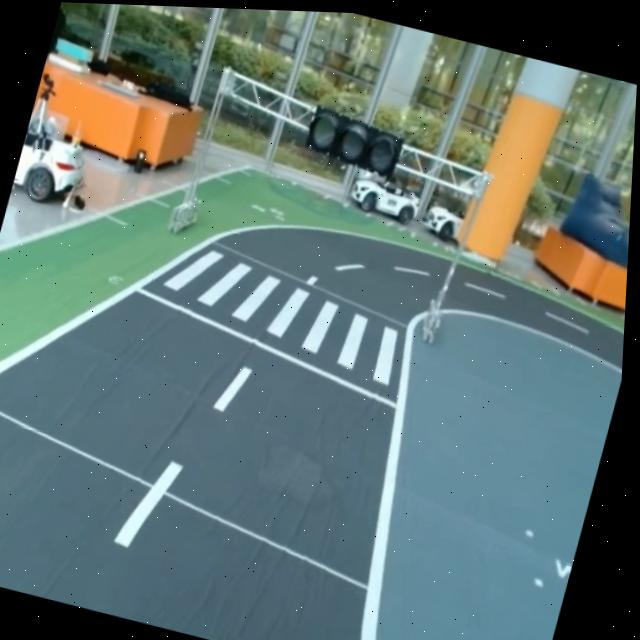traffic-light: (297, 103, 414, 174)
